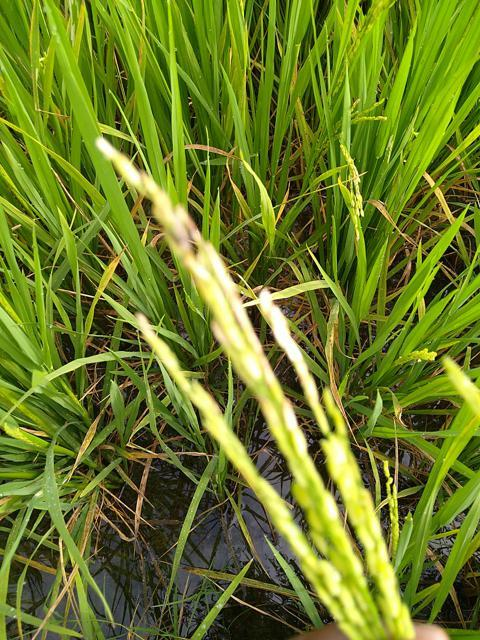Panicle Blight: (159, 203, 201, 254), (210, 313, 231, 357), (225, 289, 248, 328)
